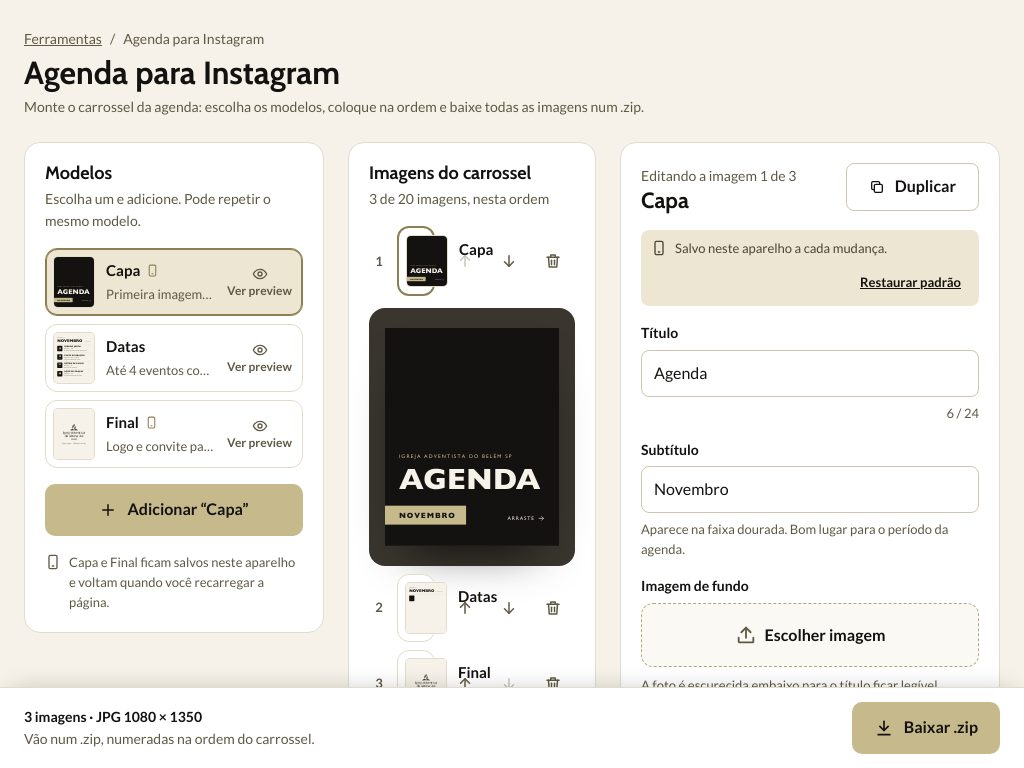
Test case: AgendaEditor › downloads the .zip with the images in order
The width and height of the screenshot is (1024, 768).
Click the button "Baixar .zip" at (926, 728), box [852, 702, 1000, 754]
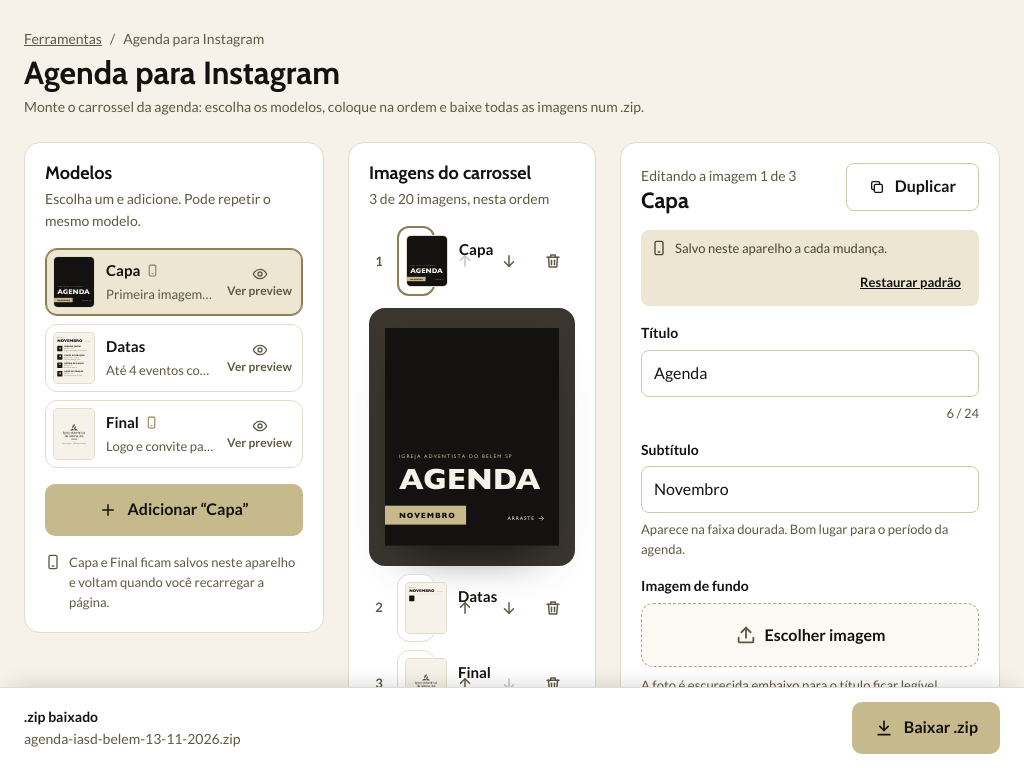
Expected: the text ".zip baixado" is shown, [24, 708, 98, 725]
